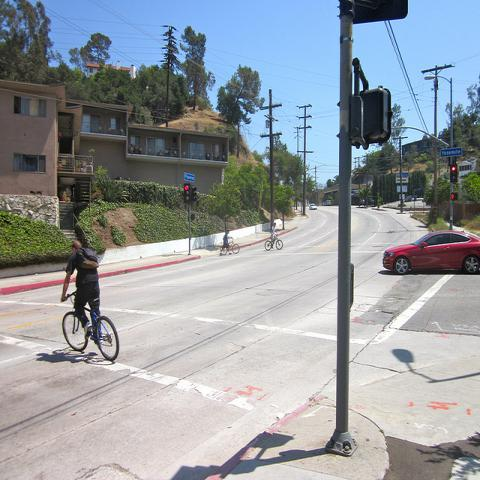car: (382, 231, 479, 273), (308, 204, 318, 211), (326, 200, 331, 205)
